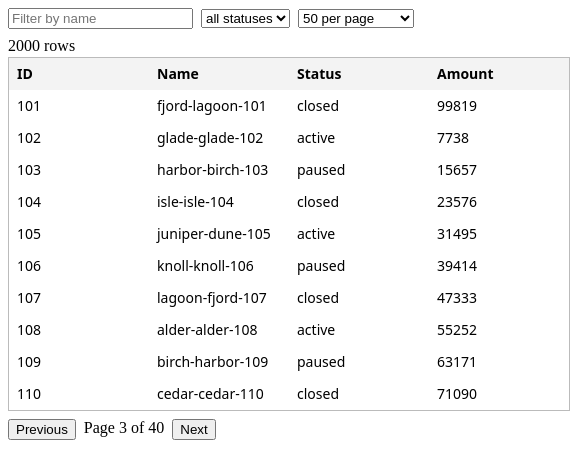
table against the mock server › changing the filter goes back to page 1
The image size is (587, 457).
Expected: the text "Page 3 of 40" is shown, x1=84 y1=419 x2=164 y2=440
Select "closed" in the dropdown named "Status": (246, 18) x1=201 y1=9 x2=290 y2=28
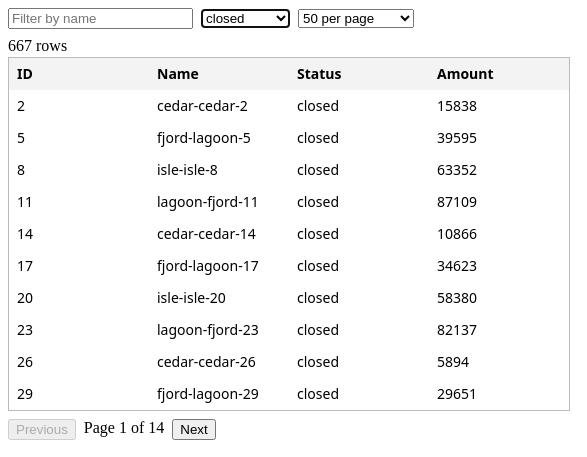
Now the text "Page 1 of 14" is shown, box x1=84 y1=419 x2=164 y2=440
